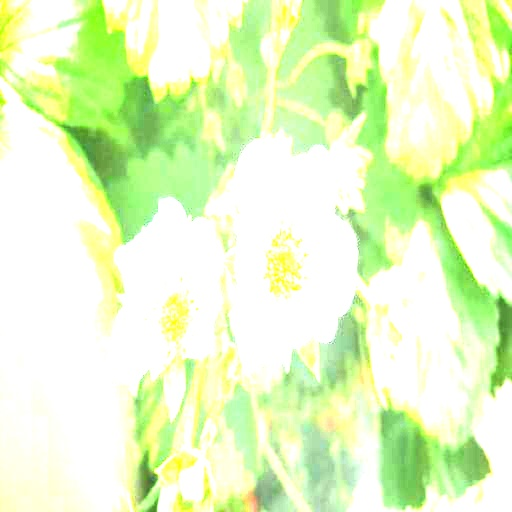Blossom Blight: (141, 260, 203, 358)
